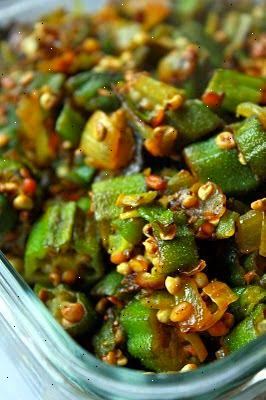bhindi: (3, 30, 266, 347)
